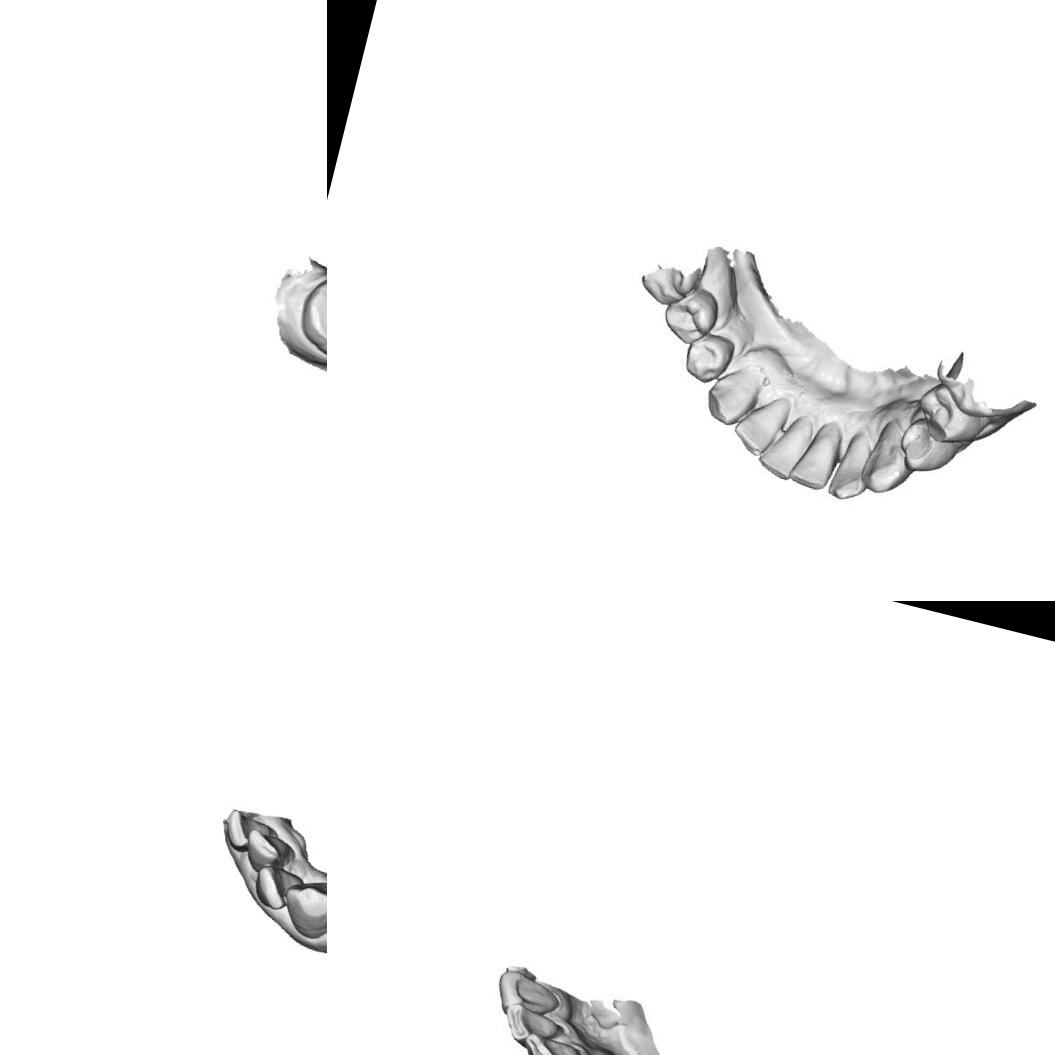canine: (857, 422, 919, 498), (274, 871, 327, 944), (698, 367, 754, 431)
incisor: (245, 856, 309, 923), (822, 432, 877, 507), (494, 968, 562, 1024), (502, 1004, 572, 1054), (756, 409, 808, 476), (239, 814, 295, 872), (792, 424, 841, 490), (218, 802, 276, 856), (734, 394, 787, 450), (522, 1033, 575, 1055)
molar: (289, 267, 327, 368)
premolar: (910, 378, 992, 450), (676, 330, 734, 386), (661, 286, 717, 342), (900, 420, 956, 472)
